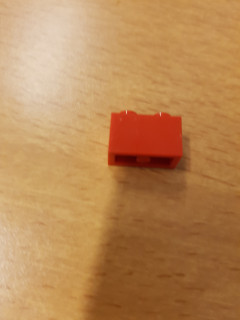1x2 red: (108, 109, 183, 169)
